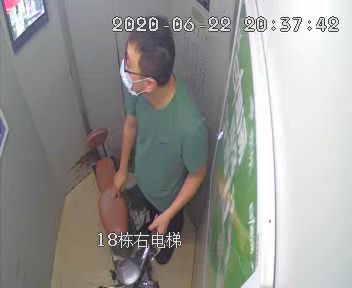Electric-bicycle: (83, 125, 157, 288)
